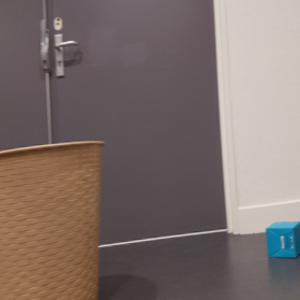medium: (1, 138, 106, 300)
small: (265, 221, 300, 260)
